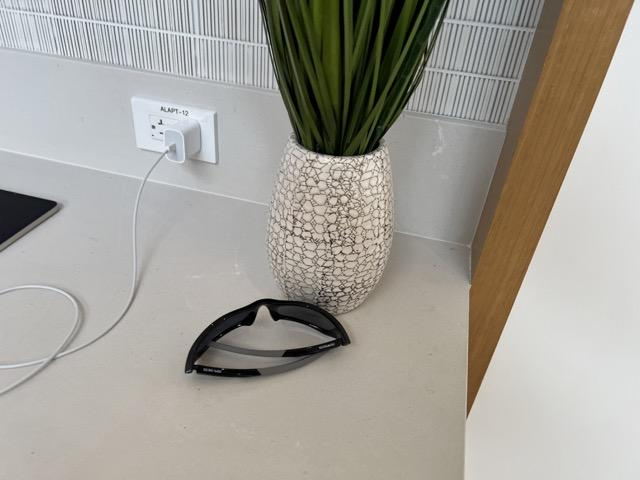Sunglasses: (184, 297, 353, 378)
